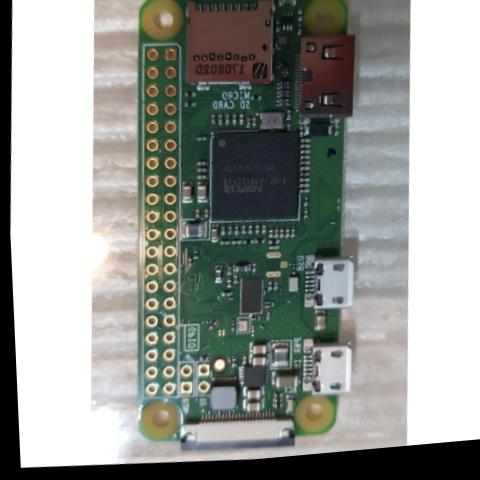Raspberry-Pi-Zero-W: (116, 0, 375, 468)
